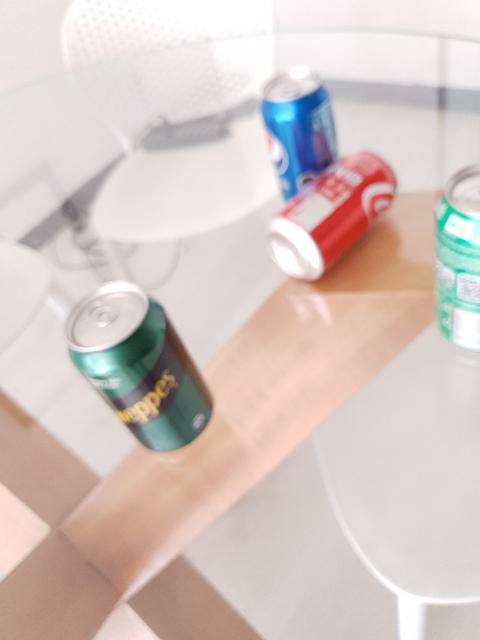coke: (271, 152, 396, 278)
pepsi: (258, 68, 336, 198)
schweppes: (66, 282, 210, 448)
sprite: (438, 167, 480, 359)
